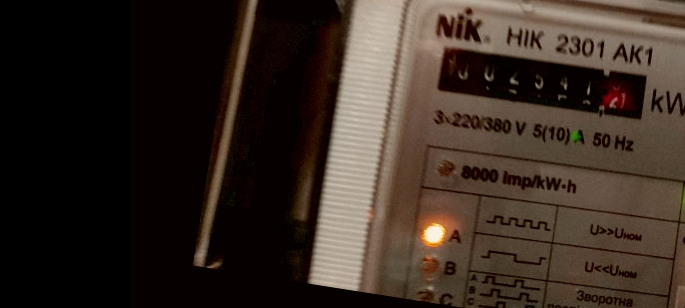0: (452, 54, 474, 83), (480, 56, 498, 85)
1: (579, 69, 596, 98)
2: (504, 59, 524, 87)
4: (556, 66, 573, 91)
5: (529, 62, 551, 93)
6: (605, 90, 622, 110)
screen: (423, 29, 664, 135)
